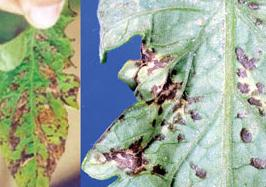Tomato leaf bacterial spot: (82, 0, 266, 187), (0, 0, 80, 187)
